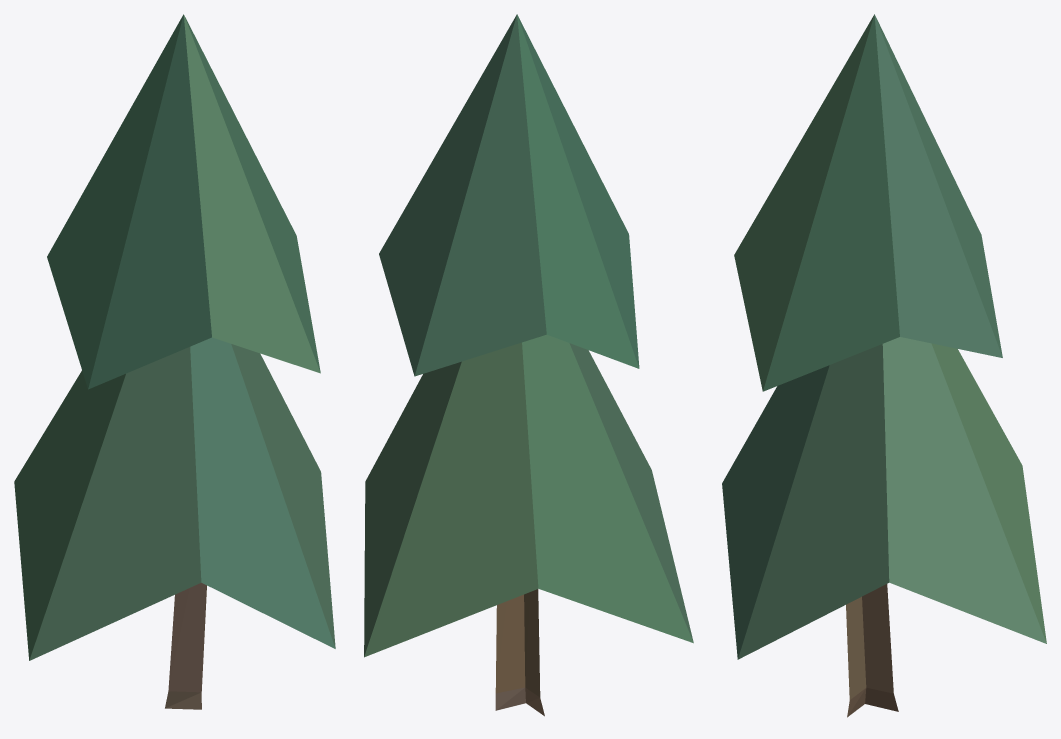
Rendered from Tree_Pine_02_Far.glb.
3 views of the same model, side by side, from view 1: azimuth 30°, elevation 25°; view 2: azimuth 150°, elevation 25°; view 3: azimuth 270°, elevation 25° (orthographic).
Visible parts, largest first — view 1: Tree_Pine_02_Far; view 2: Tree_Pine_02_Far; view 3: Tree_Pine_02_Far.
Boxes of the visible parts, left/top/right/bottom form: Tree_Pine_02_Far: left=14, top=14, right=335, bottom=709; Tree_Pine_02_Far: left=364, top=14, right=693, bottom=716; Tree_Pine_02_Far: left=722, top=14, right=1046, bottom=717.
Size of the model in its own units: 5.43 by 11.73 by 4.92.
